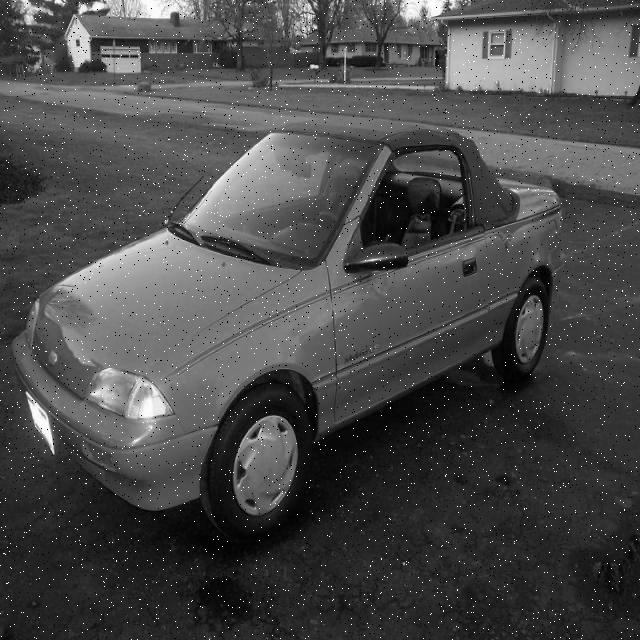Sedan: (10, 119, 565, 548)
